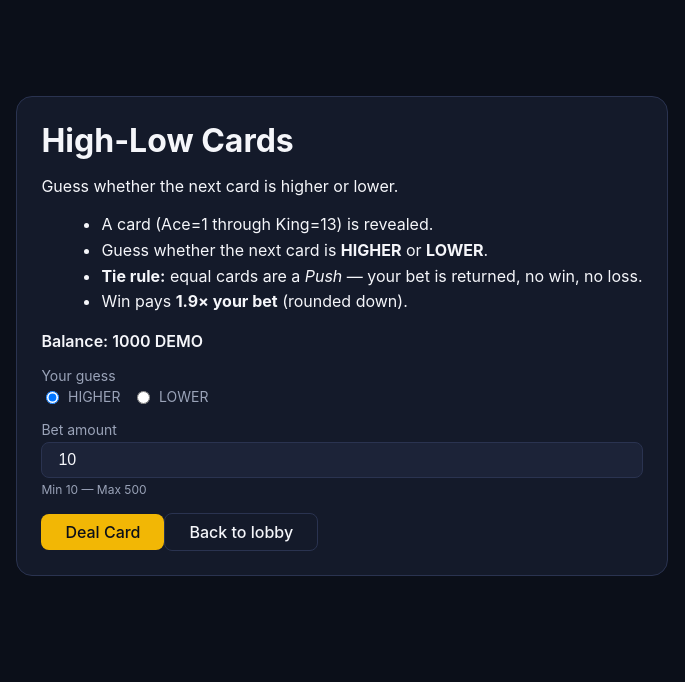
Test: HighLow › submits a bet with direction and shows the WIN result
Expected: the heading "High-Low Cards" is shown, [41, 121, 294, 160]
Click the button "Deal Card" at (103, 532), box [41, 514, 164, 550]
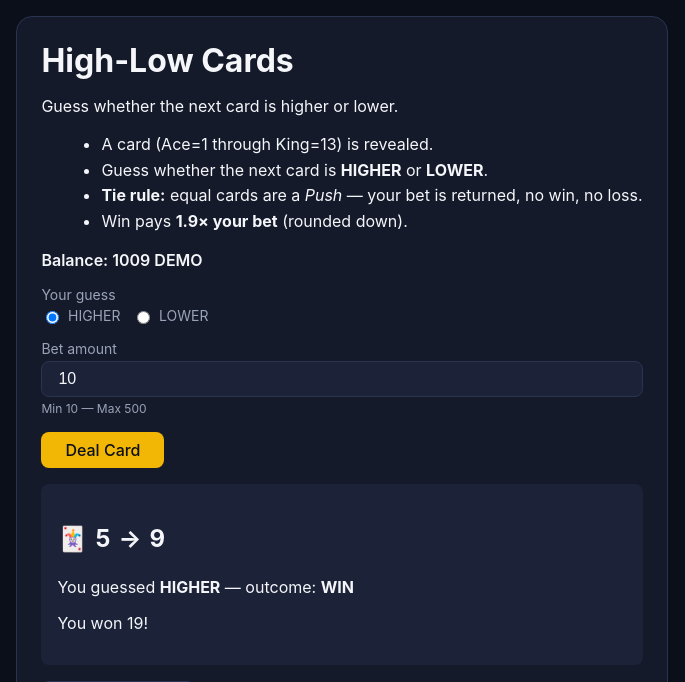
Expected: the element with test id "highlow-result" is shown, [41, 484, 643, 665]
Expected: the text "You won 19!" is shown, [57, 613, 148, 633]
Expected: the text "Balance: 1009 DEMO" is shown, [41, 250, 203, 270]
